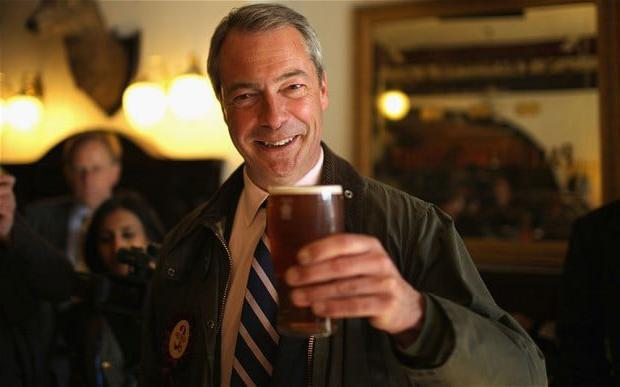Drunk: (222, 32, 319, 176)
